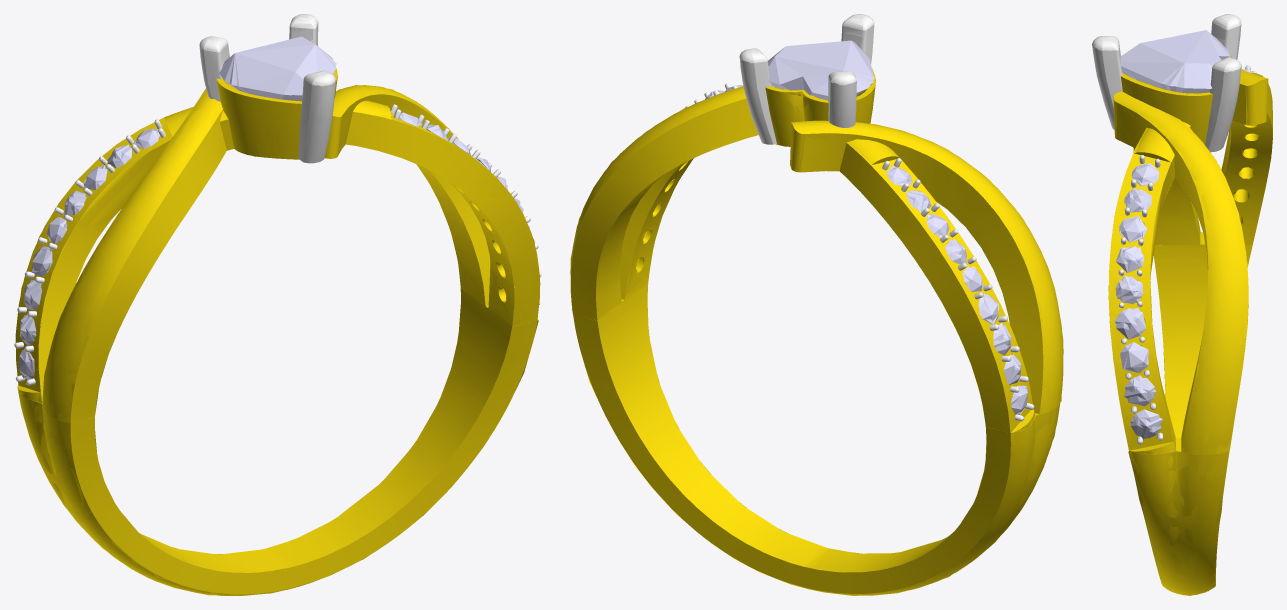
The model's file is DLR-D000679374.glb.
3 renders of one model, left to right at view 1: azimuth 30°, elevation 25°; view 2: azimuth 150°, elevation 25°; view 3: azimuth 270°, elevation 25°, orthographic. The views are drawn at different scales.
Parts seen in each view (by area): view 1: highPolyMesh, lowPolyMesh; view 2: highPolyMesh, lowPolyMesh; view 3: highPolyMesh, lowPolyMesh.
Boxes of the visible parts, left/top/right/bottom form: highPolyMesh: left=14, top=14, right=541, bottom=595; lowPolyMesh: left=14, top=14, right=541, bottom=595; highPolyMesh: left=570, top=14, right=1063, bottom=595; lowPolyMesh: left=570, top=14, right=1063, bottom=595; highPolyMesh: left=1092, top=14, right=1272, bottom=595; lowPolyMesh: left=1092, top=14, right=1272, bottom=595.
Size of the model in its own units: 0.0192 by 0.0212 by 0.00652.
